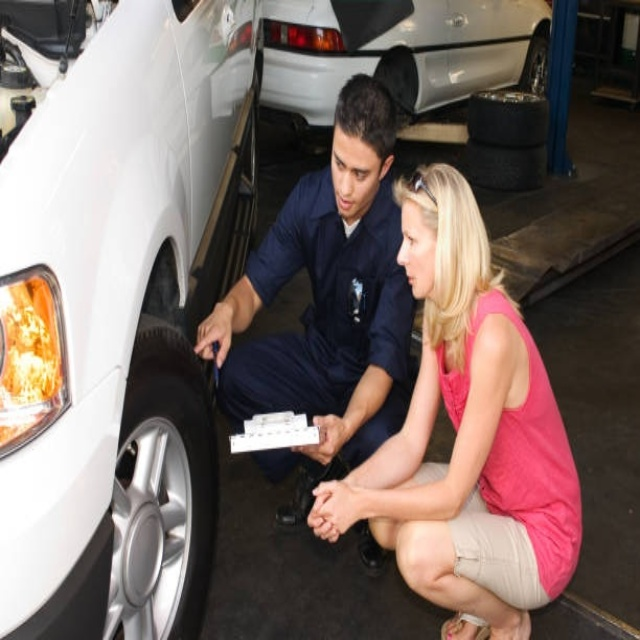Sin_gafas: (332, 147, 374, 182), (401, 226, 429, 253)
Sin_mascara: (401, 264, 429, 296), (335, 187, 360, 221)
